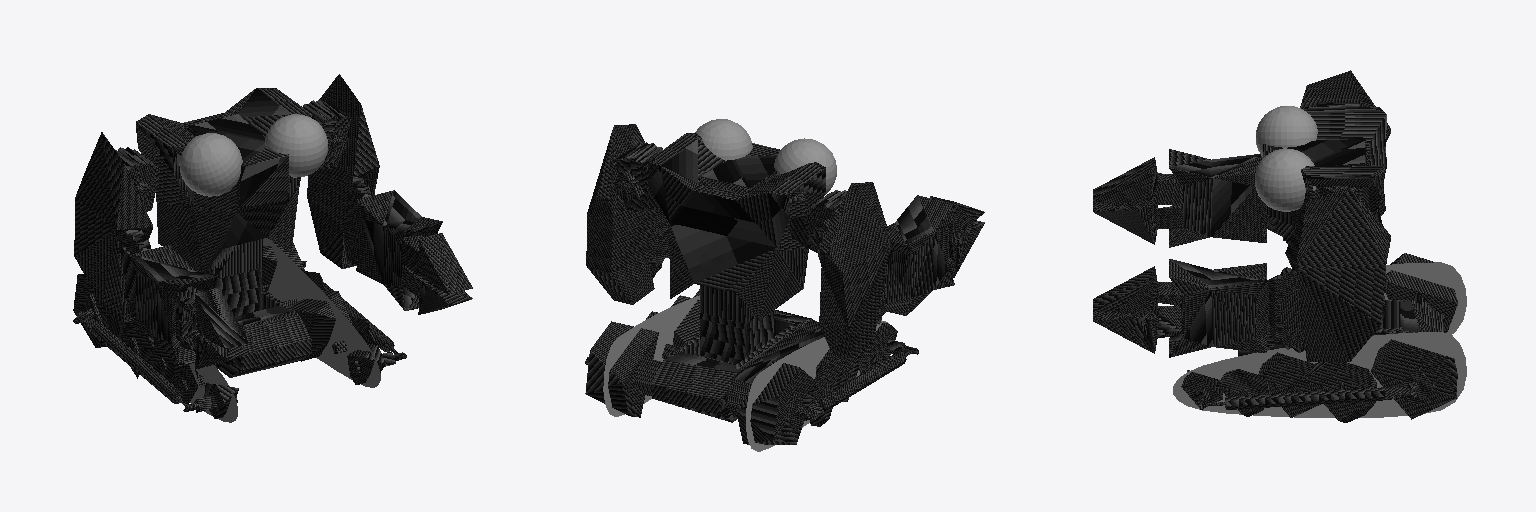
3 views of the same model, side by side, from view 1: azimuth 30°, elevation 25°; view 2: azimuth 150°, elevation 25°; view 3: azimuth 270°, elevation 25° (orthographic).
Parts seen in each view (by area): view 1: B143, B145, B155, B157, B147, B101, B141, S1, B1, S2, B148, B158 (+19 smaller); view 2: B143, B145, B155, B101, B147, B1, B136, B109, B141, B140, S2, S1 (+12 smaller); view 3: B155, B143, B157, B147, B141, B136, B148, S2, B158, B105, B159, B132 (+12 smaller).
Part boxes in pixels (left/top/right/bottom): B143: left=136, top=88, right=313, bottom=272; B145: left=74, top=132, right=152, bottom=322; B155: left=307, top=74, right=379, bottom=268; B157: left=356, top=190, right=442, bottom=310; B147: left=131, top=245, right=217, bottom=365; B101: left=215, top=288, right=311, bottom=377; B141: left=263, top=238, right=380, bottom=387; S1: left=179, top=133, right=242, bottom=196; B1: left=205, top=239, right=262, bottom=316; S2: left=265, top=114, right=327, bottom=177; B148: left=176, top=287, right=248, bottom=348; B158: left=402, top=233, right=472, bottom=293; B143: left=648, top=133, right=825, bottom=320; B145: left=817, top=182, right=891, bottom=357; B155: left=586, top=124, right=657, bottom=304; B101: left=652, top=310, right=823, bottom=422; B147: left=886, top=195, right=954, bottom=315; B1: left=700, top=285, right=773, bottom=363; B136: left=585, top=321, right=658, bottom=417; B109: left=736, top=360, right=816, bottom=444; B141: left=603, top=295, right=699, bottom=416; B140: left=746, top=320, right=888, bottom=451; S2: left=695, top=119, right=752, bottom=160; S1: left=774, top=138, right=836, bottom=195; B155: left=1285, top=186, right=1390, bottom=361; B143: left=1263, top=107, right=1386, bottom=292; B157: left=1169, top=259, right=1266, bottom=357; B147: left=1169, top=149, right=1266, bottom=247; B141: left=1173, top=332, right=1466, bottom=417; B136: left=1371, top=339, right=1457, bottom=419; B148: left=1093, top=157, right=1182, bottom=205; S2: left=1255, top=148, right=1315, bottom=211; B158: left=1093, top=266, right=1182, bottom=314; B105: left=1203, top=387, right=1418, bottom=409; B159: left=1093, top=305, right=1182, bottom=353; B132: left=1304, top=362, right=1376, bottom=422.
Bounding box in the file's own units: 225 × 207 × 276.
Materials: 3 (1 with a texture image).